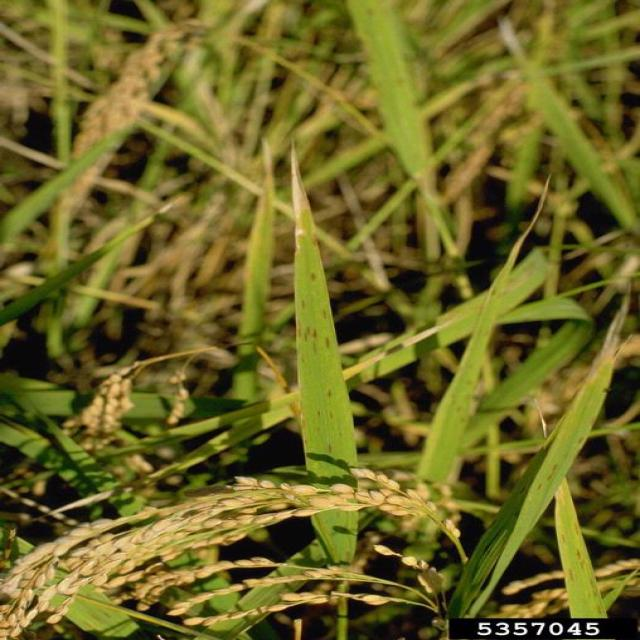Brown spot: (294, 321, 321, 352), (536, 461, 562, 493), (324, 439, 342, 458), (320, 384, 336, 399), (298, 436, 314, 450), (308, 267, 320, 283), (565, 569, 578, 583), (325, 335, 335, 352), (556, 532, 567, 544), (300, 295, 308, 311), (574, 520, 582, 536), (321, 305, 330, 319), (578, 561, 592, 570), (572, 550, 586, 558), (574, 433, 584, 443), (309, 409, 321, 417), (328, 408, 336, 418)
